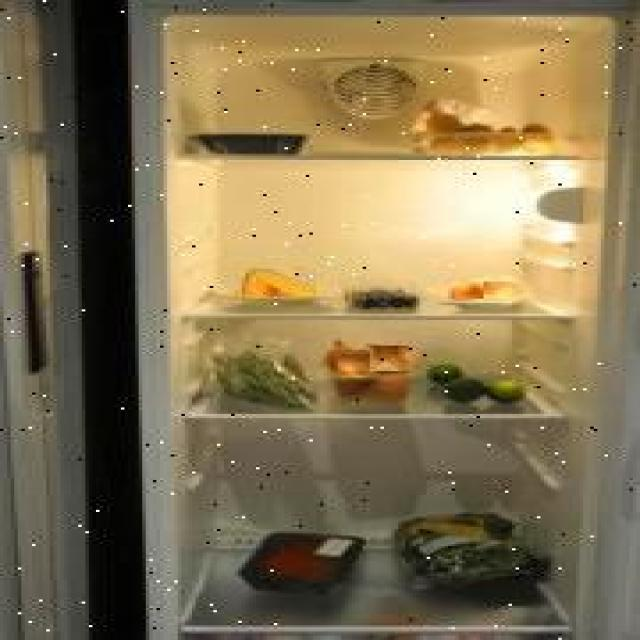cheese: (242, 270, 316, 300)
egg: (484, 282, 520, 300), (452, 282, 484, 300)
onion: (338, 350, 377, 378), (370, 347, 409, 372)
